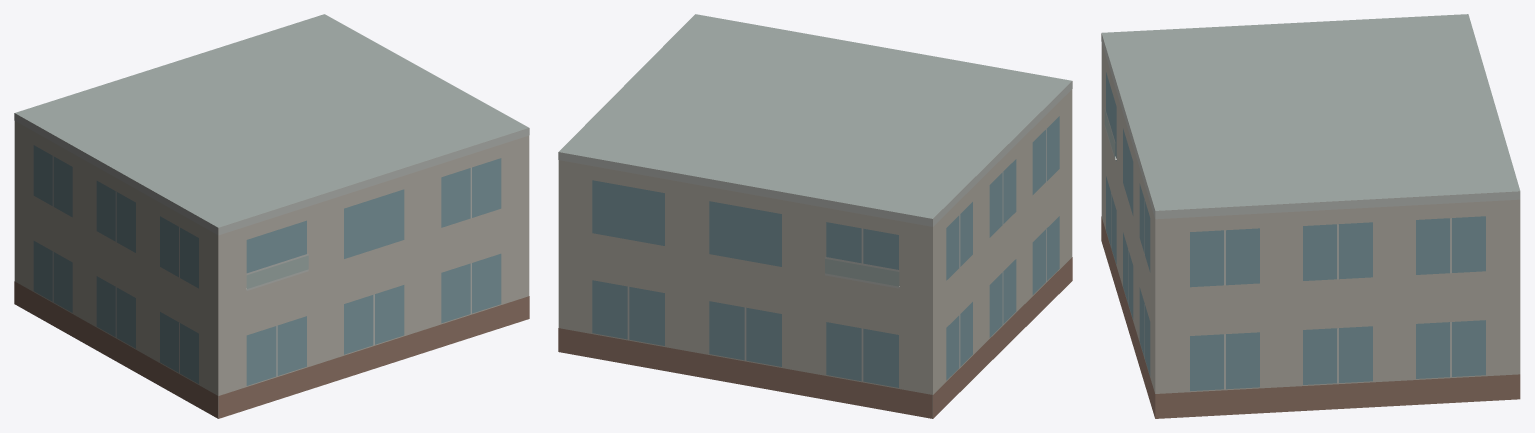
Rendered from survey-upis-32582317.glb.
The picture shows the model from 3 angles, left to right: view 1: azimuth 30°, elevation 25°; view 2: azimuth 150°, elevation 25°; view 3: azimuth 270°, elevation 25°; orthographic projection. The views are drawn at different scales.
Visible parts, largest first — view 1: survey-upis-32582317.tmp; view 2: survey-upis-32582317.tmp; view 3: survey-upis-32582317.tmp.
Boxes of the visible parts, x1,y1,x2,y2 form: survey-upis-32582317.tmp: (14, 14, 529, 418); survey-upis-32582317.tmp: (558, 14, 1072, 418); survey-upis-32582317.tmp: (1101, 14, 1520, 418).
Size of the model in its own units: 12.41 by 6.1 by 11.15.
